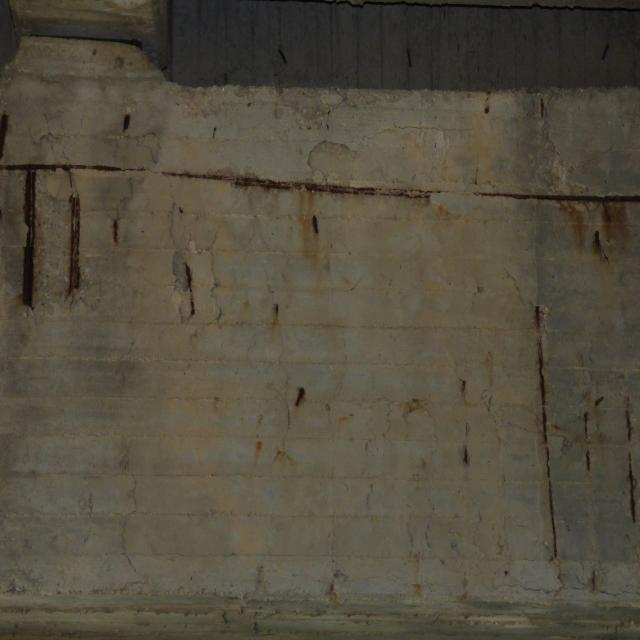corrosion: (0, 109, 440, 342), (212, 365, 484, 635), (511, 161, 640, 608), (195, 3, 629, 127)
